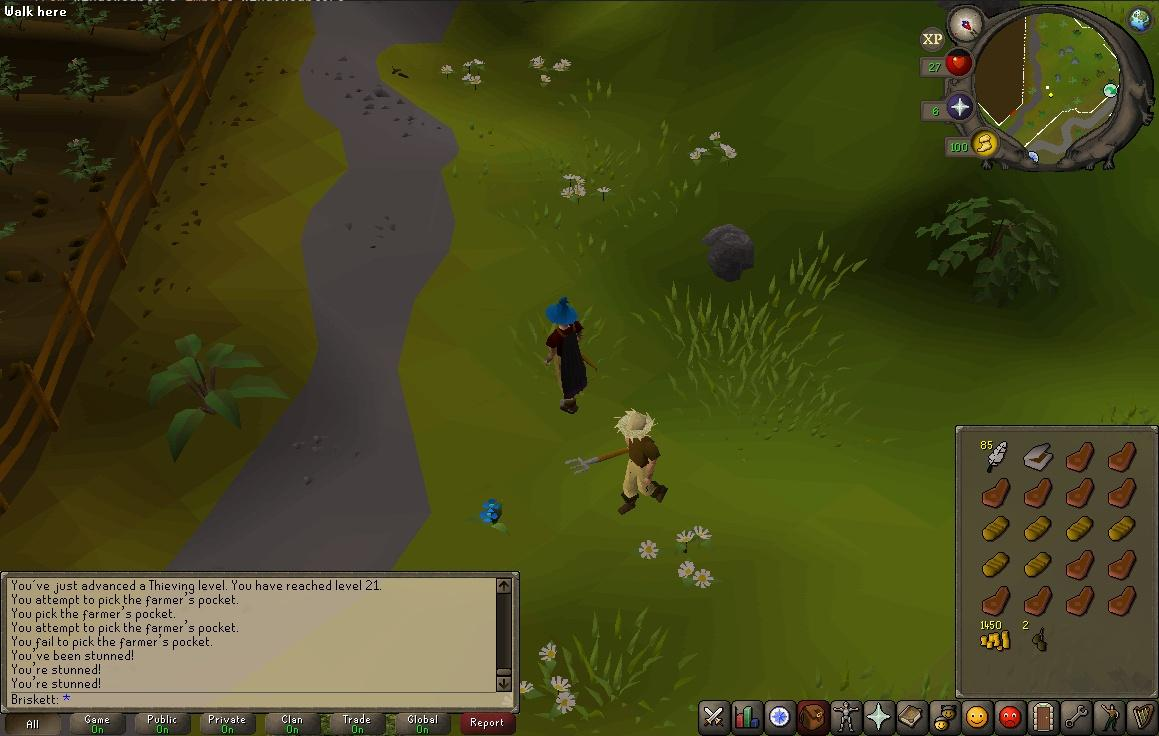Farmer: (614, 409, 669, 516)
